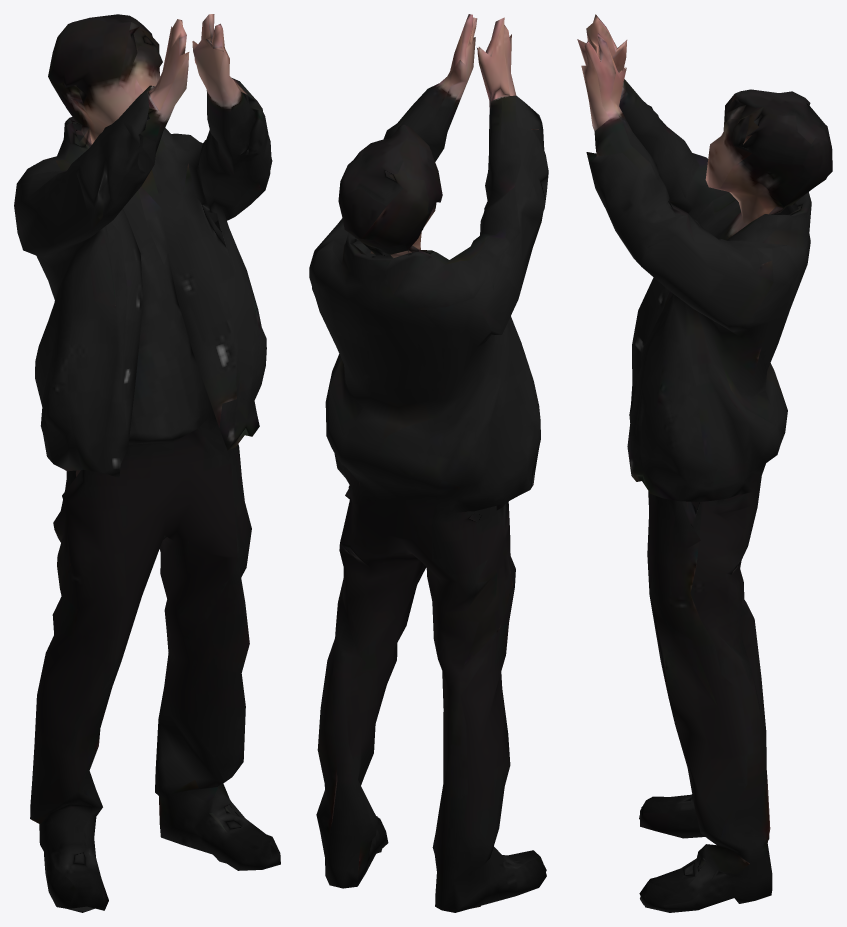
Rendered from fan-side-s2.lo.glb.
3 renders of one model, left to right at view 1: azimuth 30°, elevation 25°; view 2: azimuth 150°, elevation 25°; view 3: azimuth 270°, elevation 25°, orthographic. The views are drawn at different scales.
Parts seen in each view (by area): view 1: geometry_0; view 2: geometry_0; view 3: geometry_0.
Part boxes in pixels (box(x1,y1,x2,y2)): geometry_0: box(14, 14, 280, 912); geometry_0: box(309, 14, 548, 912); geometry_0: box(577, 14, 832, 912).
Bounding box in the file's own units: 0.2549 × 0.9942 × 0.2747.
1 material, 1 textured.
